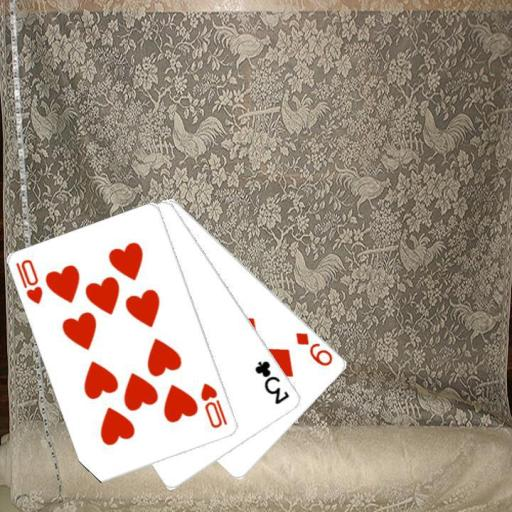10H: (198, 380, 230, 430), (13, 256, 45, 306)
3C: (252, 357, 292, 406)
9D: (293, 329, 335, 368)
